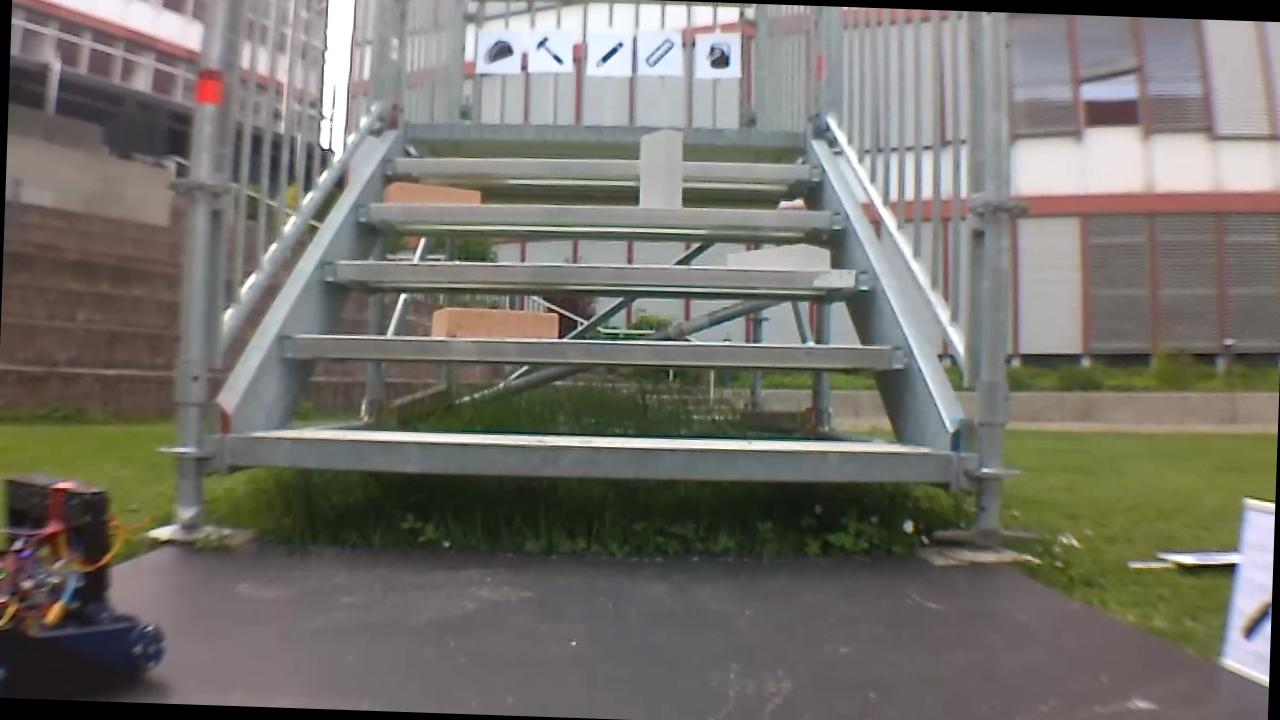brick: (430, 305, 558, 339), (637, 127, 683, 208), (382, 181, 479, 204)
bucket: (702, 39, 736, 72)
edge: (226, 427, 953, 487), (281, 325, 907, 374), (319, 249, 877, 295), (352, 194, 851, 235), (383, 149, 824, 186), (406, 116, 810, 147)
hammer: (529, 32, 566, 67)
pencil: (589, 33, 624, 73)
ruler: (643, 34, 678, 71)
steps: (217, 107, 973, 496)
taco: (480, 35, 518, 69)
